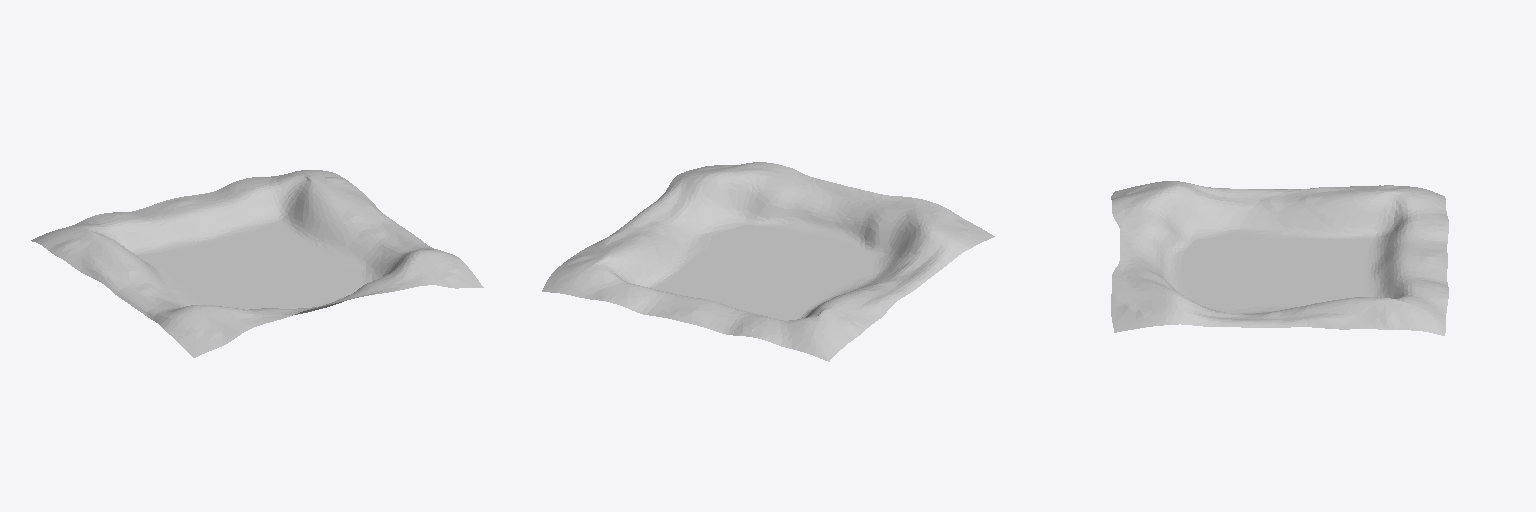
The model's file is Terrain.obj.
3 renders of one model, left to right at view 1: azimuth 30°, elevation 25°; view 2: azimuth 150°, elevation 25°; view 3: azimuth 270°, elevation 25°, orthographic.
Parts seen in each view (by area): view 1: Grid; view 2: Grid; view 3: Grid.
Boxes of the visible parts, box(x1,y1,x2,y2) form: Grid: box(31, 170, 483, 357); Grid: box(542, 162, 994, 361); Grid: box(1111, 181, 1448, 335).
Size of the model in its own units: 105 by 10.96 by 103.